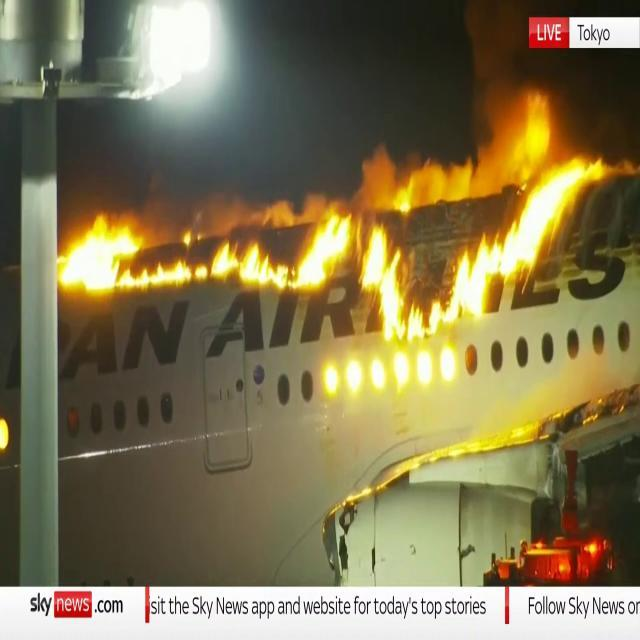Fire: (316, 94, 600, 382), (473, 95, 601, 286), (57, 211, 287, 295)
